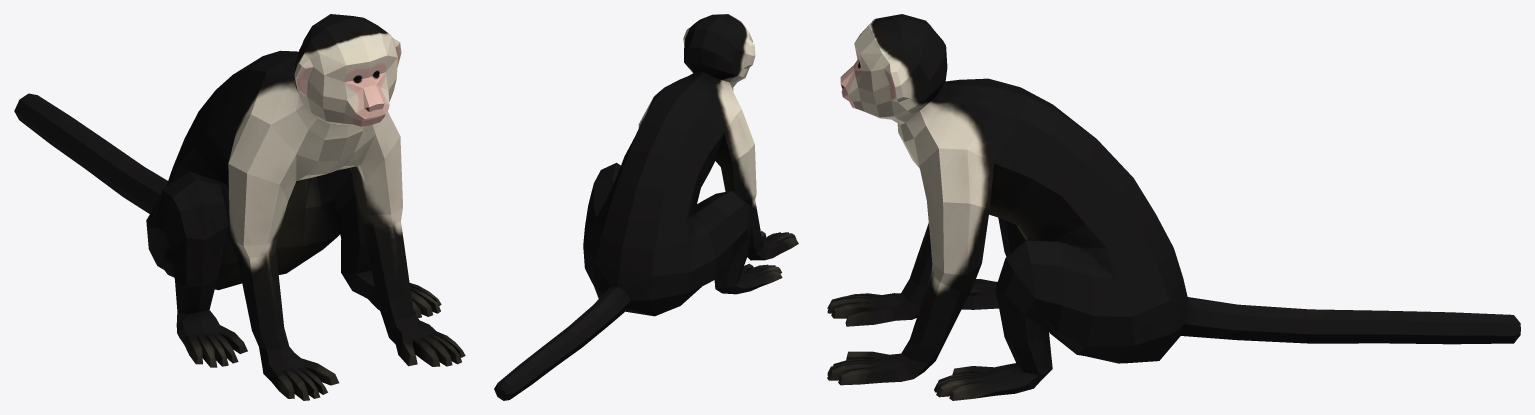
File: 29hG1_J1Uiq.glb
3 views of the same model, side by side, from view 1: azimuth 30°, elevation 25°; view 2: azimuth 150°, elevation 25°; view 3: azimuth 270°, elevation 25° (orthographic). The views are drawn at different scales.
Parts seen in each view (by area): view 1: CapuchinMonkey_Mesh; view 2: CapuchinMonkey_Mesh; view 3: CapuchinMonkey_Mesh.
Boxes of the visible parts, left/top/right/bottom form: CapuchinMonkey_Mesh: left=14, top=14, right=465, bottom=400; CapuchinMonkey_Mesh: left=494, top=14, right=798, bottom=400; CapuchinMonkey_Mesh: left=827, top=14, right=1520, bottom=400.
Bounding box in the file's own units: 0.7599 × 1 × 1.92.
Materials: 1 (1 with a texture image).
